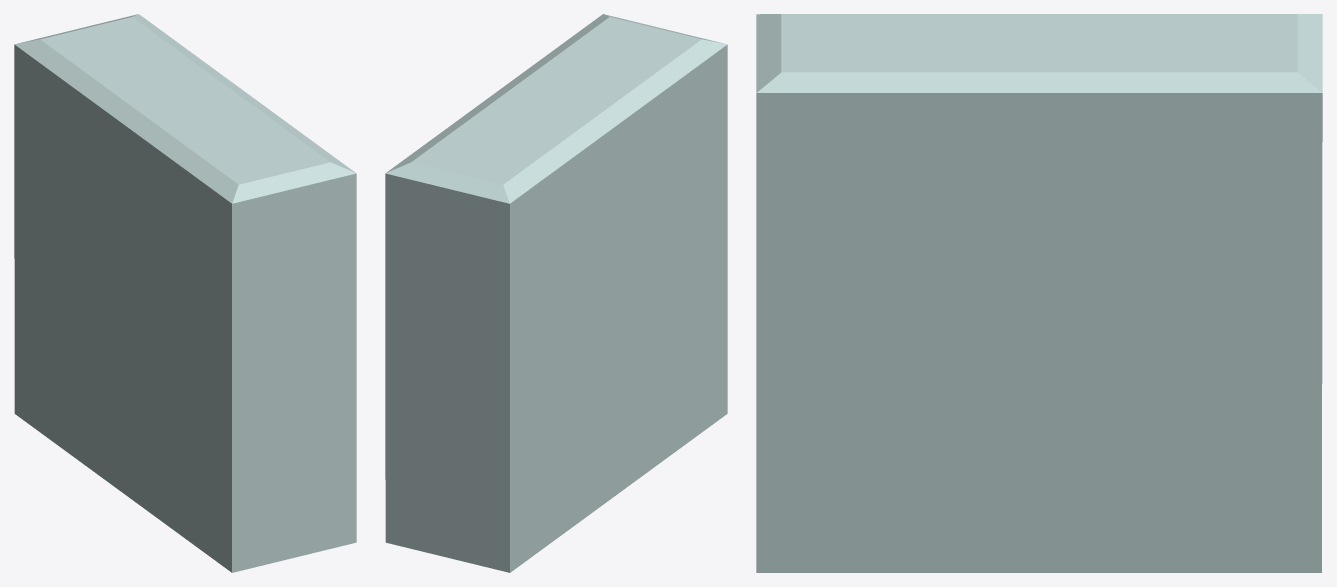
The model's file is Middle_Icetile_Thin_01.fbx.
The picture shows the model from 3 angles, left to right: view 1: azimuth 30°, elevation 25°; view 2: azimuth 150°, elevation 25°; view 3: azimuth 270°, elevation 25°; orthographic projection. The views are drawn at different scales.
Parts seen in each view (by area): view 1: Middle_Icetile_Thin_01; view 2: Middle_Icetile_Thin_01; view 3: Middle_Icetile_Thin_01.
Part boxes in pixels (x1=…): Middle_Icetile_Thin_01: x1=14, y1=14, x2=356, y2=572; Middle_Icetile_Thin_01: x1=385, y1=14, x2=727, y2=572; Middle_Icetile_Thin_01: x1=756, y1=14, x2=1322, y2=572.
Bounding box in the file's own units: 0.99 × 2.87 × 3.
